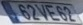2: (26, 3, 41, 20), (62, 5, 77, 22)
6: (17, 3, 31, 20), (55, 5, 68, 21)
E: (43, 4, 61, 21)
V: (33, 3, 49, 21)
